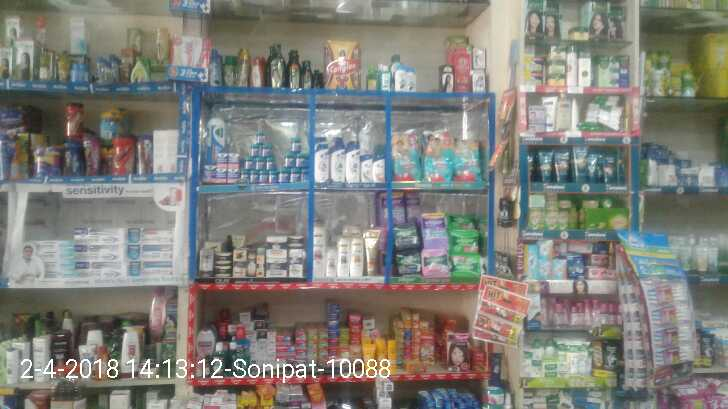vicks: (238, 124, 309, 181), (200, 153, 238, 185)
